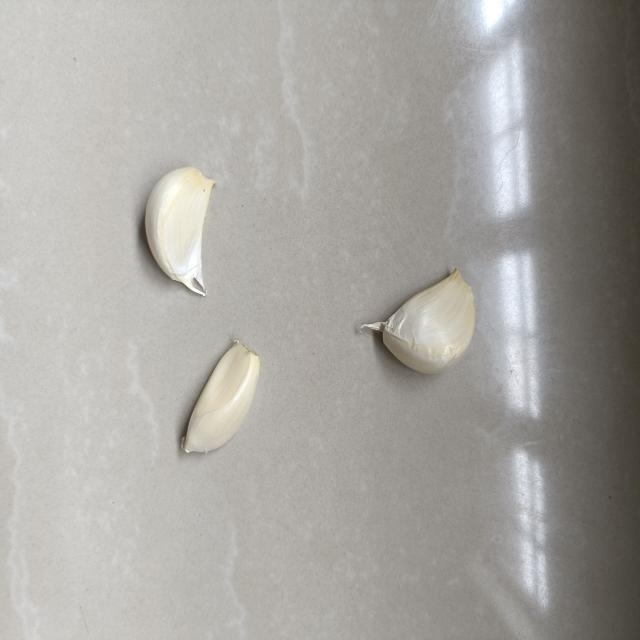garlic: (360, 248, 479, 380), (165, 334, 273, 468), (131, 161, 226, 304)
